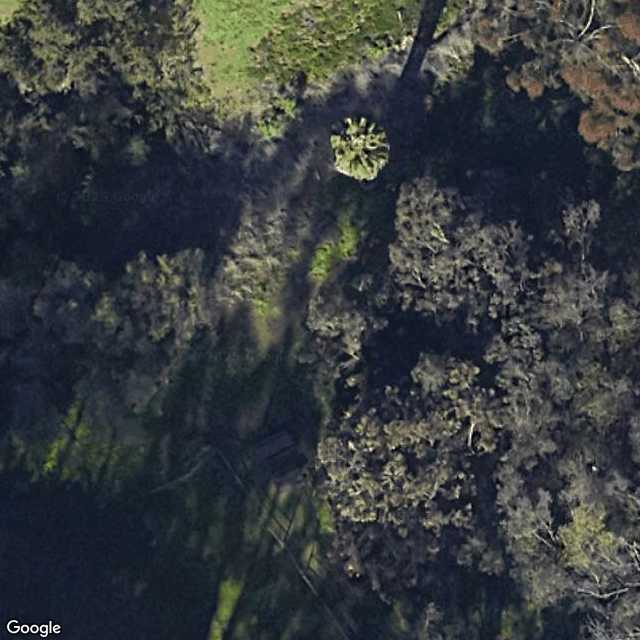palm: (326, 111, 393, 185)
